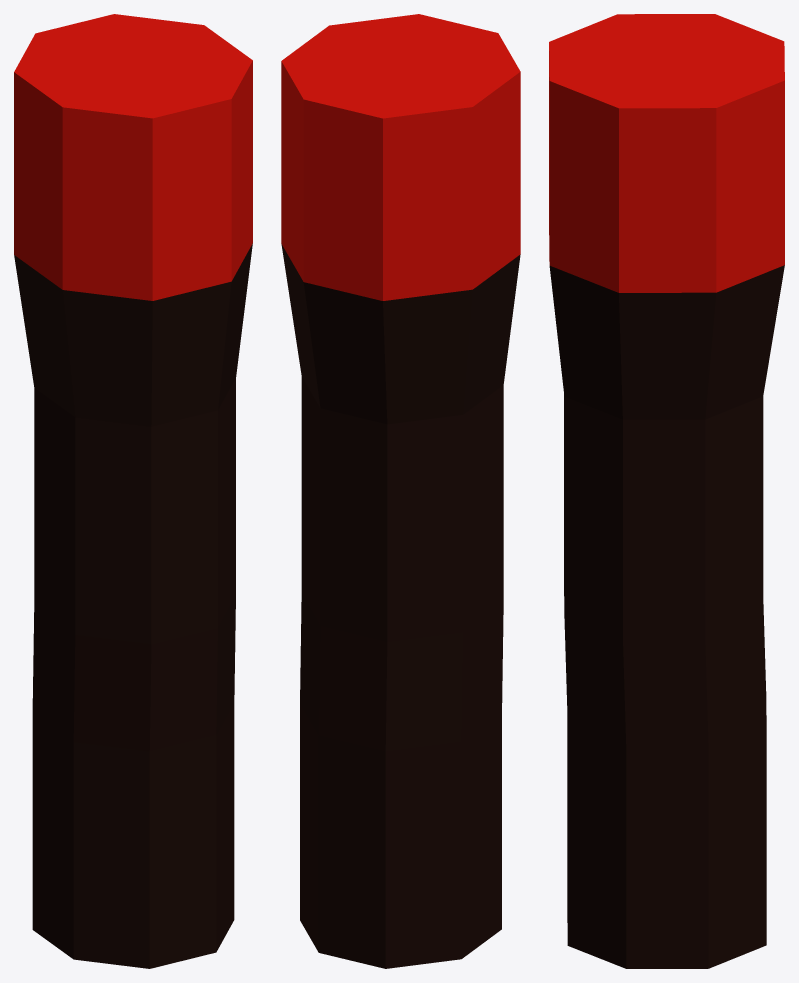
The model's file is Torch.FBX.
The picture shows the model from 3 angles, left to right: view 1: azimuth 30°, elevation 25°; view 2: azimuth 150°, elevation 25°; view 3: azimuth 270°, elevation 25°; orthographic projection.
Visible parts, largest first — view 1: Torch; view 2: Torch; view 3: Torch.
Part boxes in pixels (x1,y1,x2,y2): Torch: (14,14,252,968); Torch: (281,14,520,968); Torch: (549,14,784,968).
Bounding box in the file's own units: 3.07 × 13.17 × 3.24.
